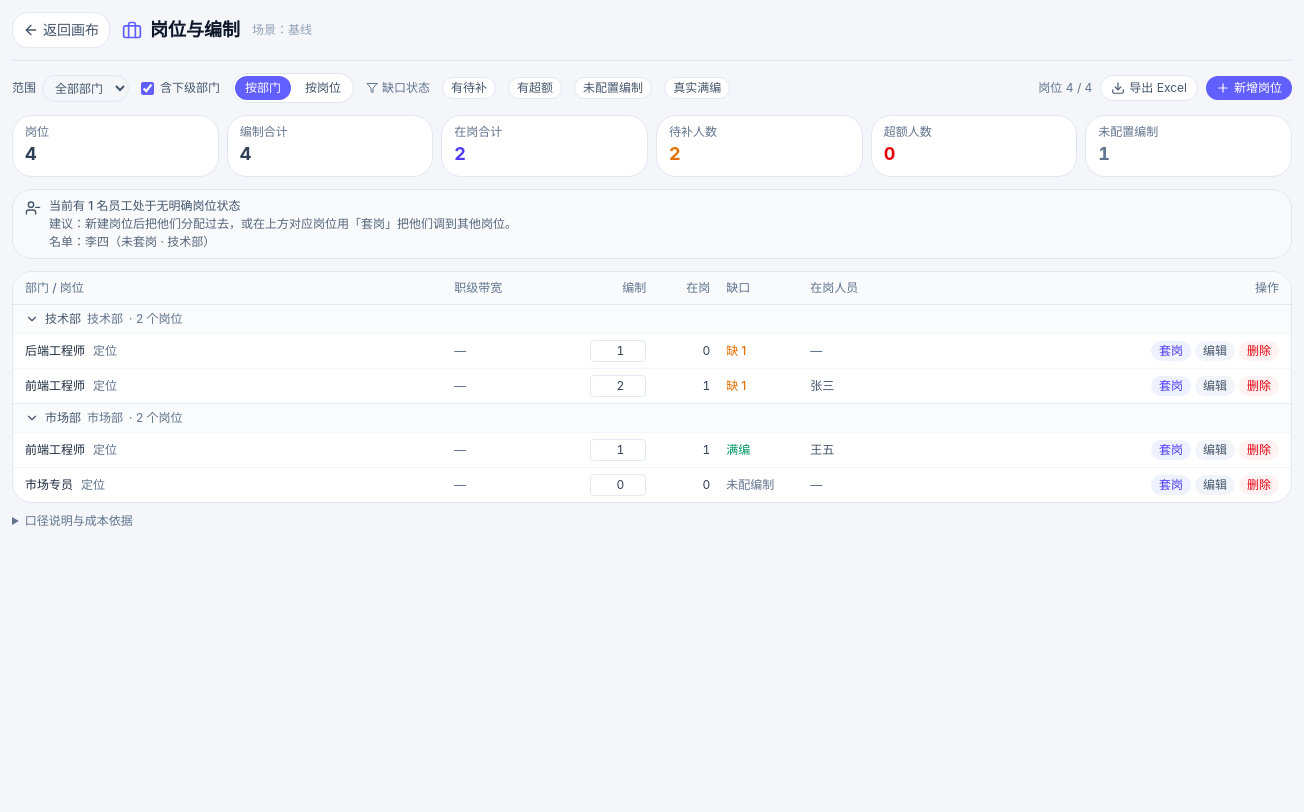
Test: V2.4.0 新增 / 编辑 / 删除岗位 › 名称为空时「创建」不可点（不允许建无名岗位）
Click the button "新增岗位" at (1249, 88), box [1206,76,1292,100]
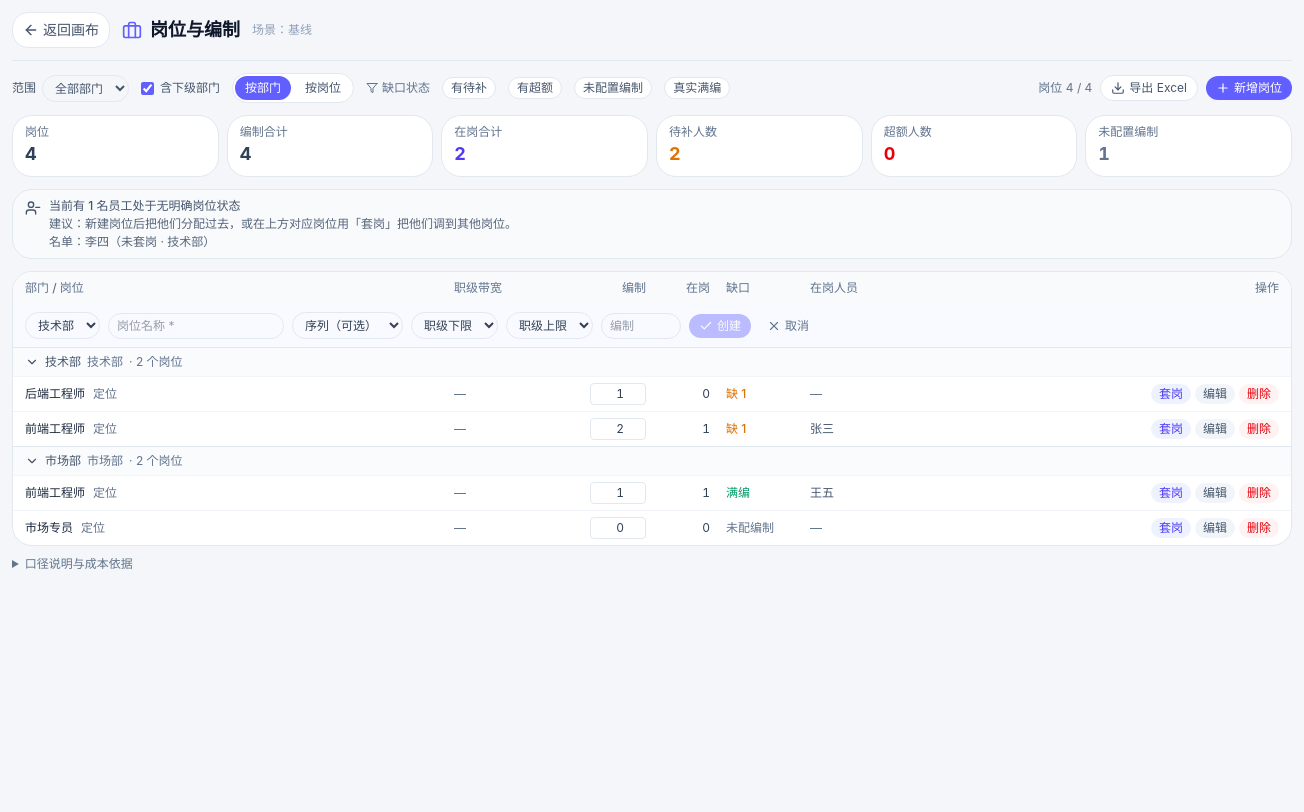
Expected: the button "创建" is disabled, [689,314,751,338]
